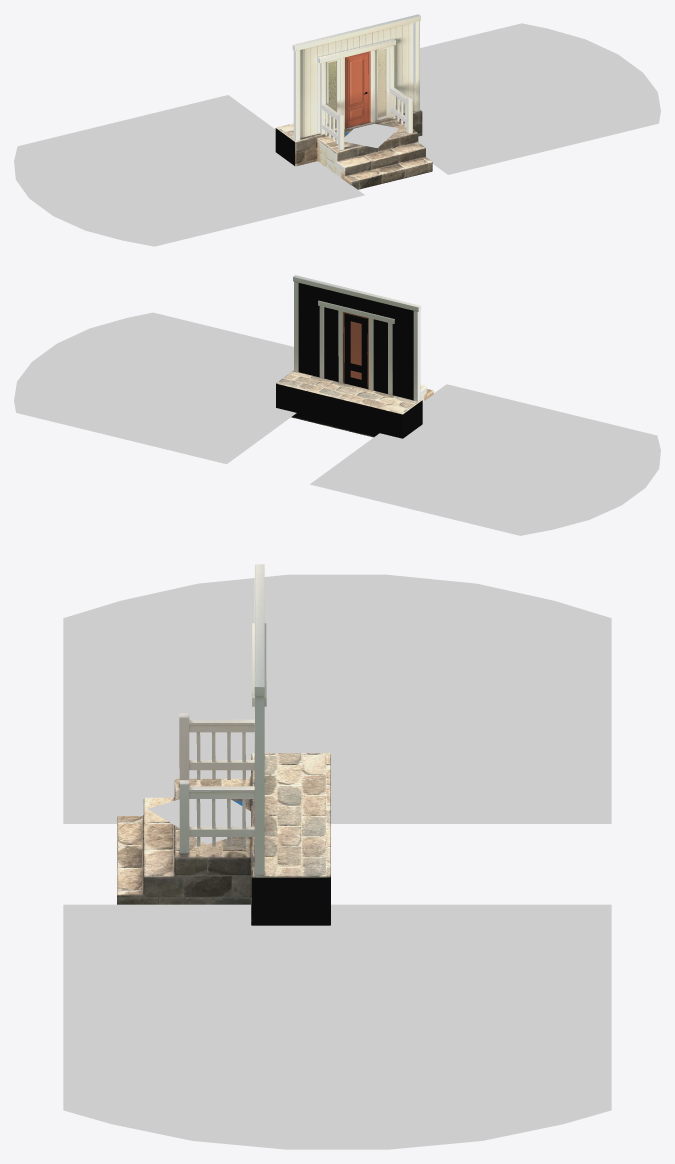
The picture shows the model from 3 angles, top to bottom: view 1: azimuth 30°, elevation 25°; view 2: azimuth 150°, elevation 25°; view 3: azimuth 270°, elevation 25°; orthographic projection. The views are drawn at different scales.
Visible parts, largest first — view 1: grass, stone, wood, wall, door, glass, trims, box_shadow; view 2: grass, wall, stone, wood, door; view 3: grass, stone, wood, box_shadow.
Part boxes in pixels (x1,y1,x2,y2): grass: [14, 23, 660, 246]; stone: [275, 110, 432, 189]; wood: [292, 14, 420, 150]; wall: [300, 22, 413, 138]; door: [345, 51, 370, 128]; glass: [326, 46, 389, 130]; trims: [329, 49, 385, 128]; box_shadow: [344, 123, 398, 147]; grass: [14, 312, 660, 535]; wall: [298, 283, 413, 400]; stone: [276, 370, 433, 438]; wood: [293, 275, 421, 401]; door: [343, 312, 368, 389]; grass: [63, 574, 611, 1149]; stone: [117, 753, 330, 925]; wood: [179, 564, 266, 874]; box_shadow: [148, 799, 250, 844].
Size of the model in its own units: 79.82 by 16.18 by 32.16.
Materials: 8 (7 with a texture image).
